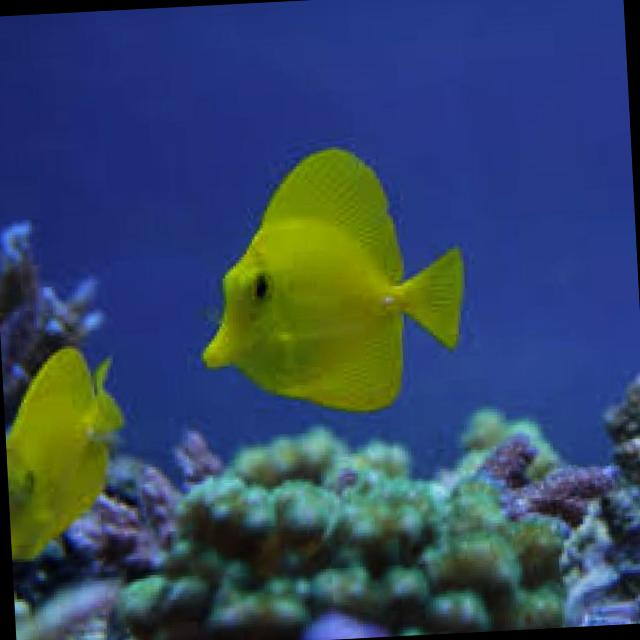TangFish: (186, 136, 470, 423)
